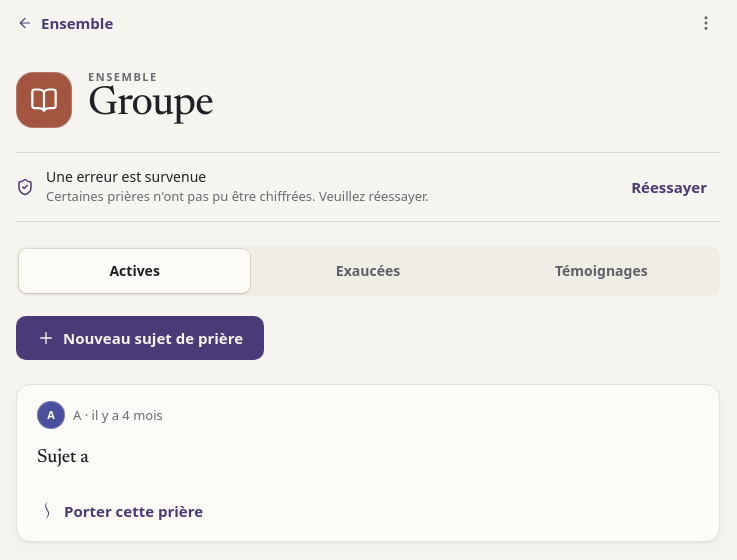
Test: GroupView — progressive list tools › the switch splits active from answered requests, and only Active offers a new request
Expected: the text "Sujet a" is shown, [37,448,89,467]
Expected: the text "Sujet b" is not shown
Click the button "Exaucées" at [368, 271], box [252,249,484,293]
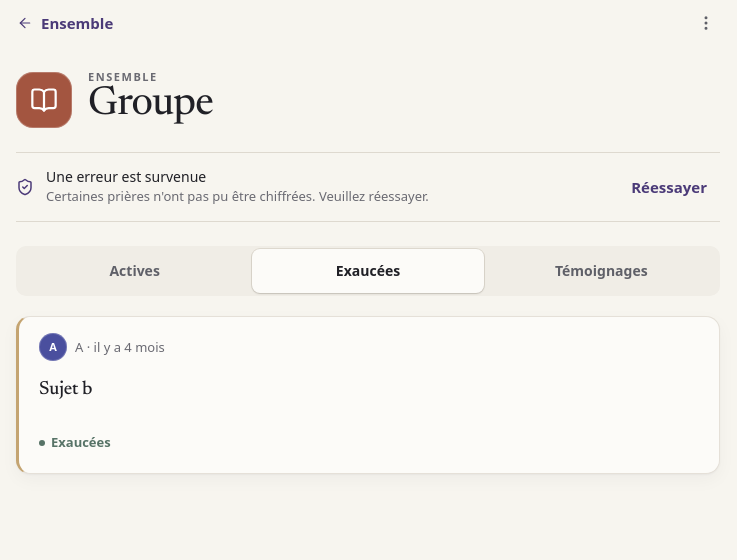
Now the text "Sujet b" is shown, box [39,380,92,399]
Now the button "Sujet a" is gone
Now the button "Nouveau sujet de prière" is gone
